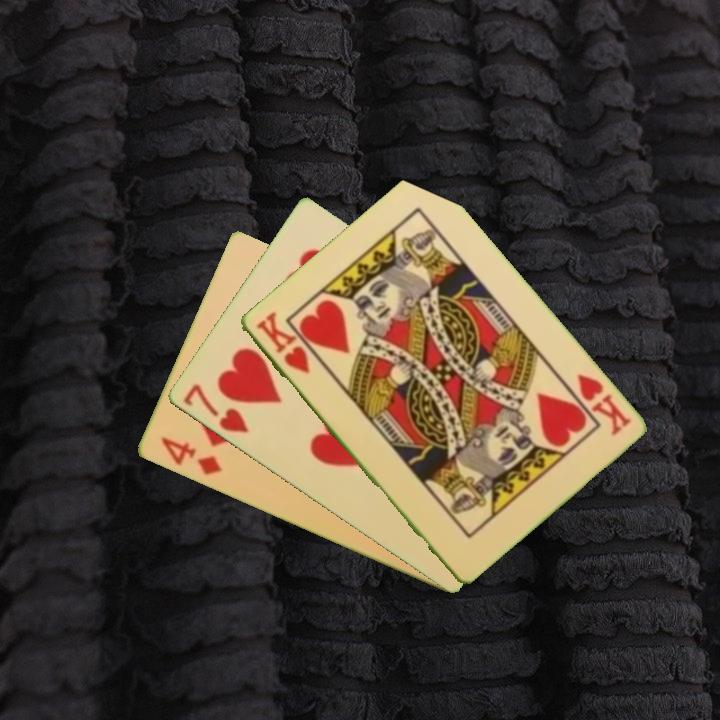4d: (157, 433, 225, 479)
7h: (179, 380, 251, 436)
Kh: (572, 370, 634, 439), (252, 308, 312, 377)
